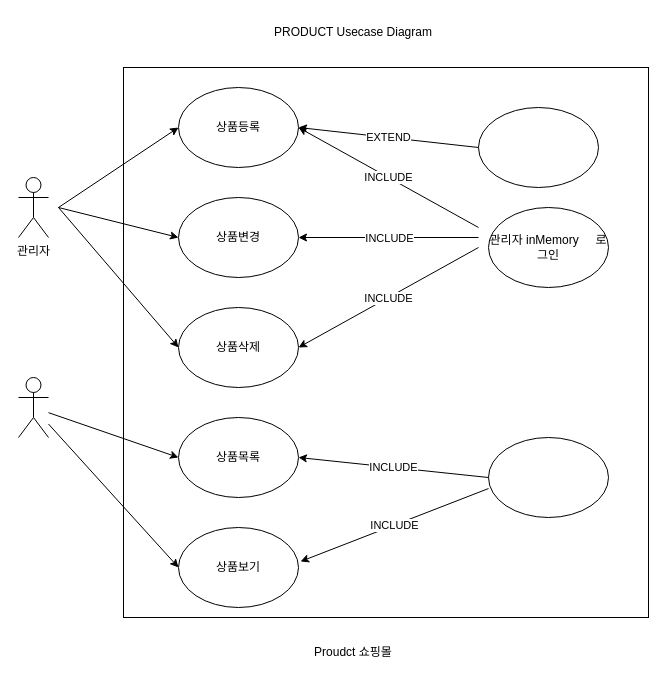
Some shapes in this 666 by 684 pixel diagram are drawn without their labels. Here are the shapes that lost their labels. From the top down, the centre of each, then its label:
the point at 538,147: 파일업로드
the point at 33,407: 사용자
the point at 548,477: 고객 DAO 로그인
